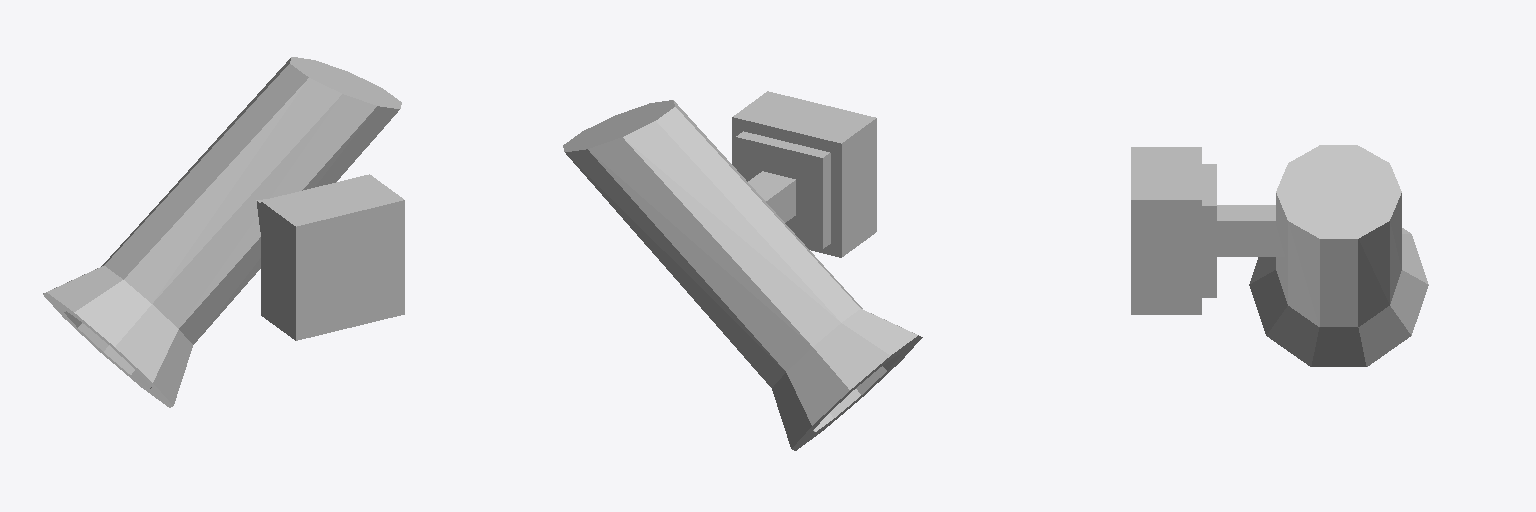
File: spotLight.obj
3 renders of one model, left to right at view 1: azimuth 30°, elevation 25°; view 2: azimuth 150°, elevation 25°; view 3: azimuth 270°, elevation 25°, orthographic.
Visible parts, largest first — view 1: Cylinder.007, Cube.019; view 2: Cylinder.007, Cube.019; view 3: Cylinder.007, Cube.019.
Boxes of the visible parts, box(x1,y1,x2,y2) form: Cylinder.007: box(43, 57, 401, 407); Cube.019: box(256, 174, 404, 340); Cylinder.007: box(563, 100, 922, 450); Cube.019: box(732, 91, 876, 257); Cylinder.007: box(1249, 145, 1428, 366); Cube.019: box(1131, 147, 1284, 314).
Bounding box in the file's own units: 0.583 × 0.49 × 0.4523.